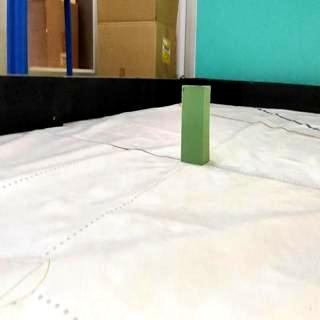greenbox: (180, 84, 210, 165)
